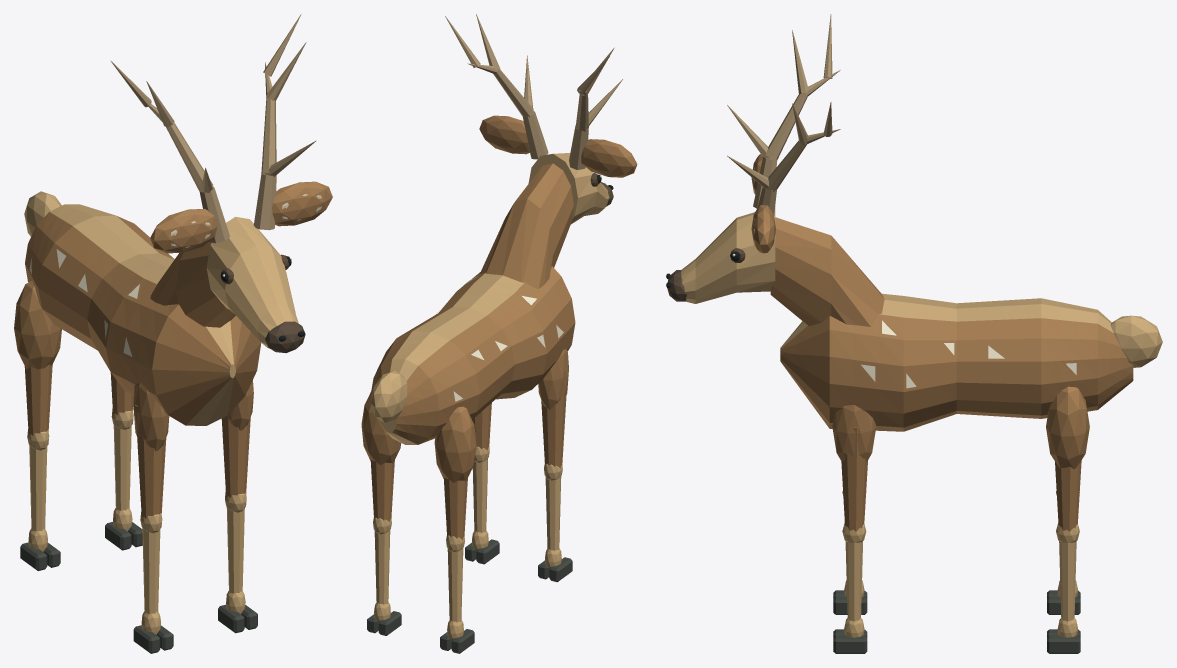
File: deer.glb
The picture shows the model from 3 angles, left to right: view 1: azimuth 30°, elevation 25°; view 2: azimuth 150°, elevation 25°; view 3: azimuth 270°, elevation 25°; orthographic projection. The views are drawn at different scales.
Visible parts, largest first — view 1: Body_mesh, Head_mesh, UpperLeg.002_mesh, UpperLeg_mesh, Antler.001_mesh, UpperLeg.001_mesh, Antler_mesh, Ear_mesh, Ear.001_mesh, LowerLeg.002_mesh, LowerLeg_mesh, LowerLeg.001_mesh (+7 smaller); view 2: Body_mesh, Head_mesh, UpperLeg.002_mesh, UpperLeg.003_mesh, UpperLeg_mesh, Antler.001_mesh, Ear_mesh, Antler_mesh, Tail_mesh, Ear.001_mesh, LowerLeg.002_mesh, LowerLeg_mesh (+7 smaller); view 3: Body_mesh, Head_mesh, UpperLeg.003_mesh, UpperLeg.001_mesh, Antler_mesh, Antler.001_mesh, Tail_mesh, LowerLeg.003_mesh, LowerLeg.001_mesh, Ear.001_mesh, Foot.001_mesh.
Boxes of the visible parts, box(x1,y1,x2,y2) form: Body_mesh: box(25, 204, 261, 425); Head_mesh: box(150, 216, 305, 353); UpperLeg.002_mesh: box(14, 281, 61, 450); UpperLeg_mesh: box(133, 382, 169, 533); Antler.001_mesh: box(253, 14, 316, 230); UpperLeg.001_mesh: box(221, 380, 253, 512); Antler_mesh: box(110, 60, 229, 243); Ear_mesh: box(150, 208, 217, 253); Ear.001_mesh: box(272, 181, 332, 226); LowerLeg.002_mesh: box(28, 445, 47, 551); LowerLeg_mesh: box(141, 528, 160, 634); LowerLeg.001_mesh: box(226, 507, 245, 614); Body_mesh: box(371, 266, 575, 444); Head_mesh: box(480, 153, 613, 288); UpperLeg.002_mesh: box(434, 406, 476, 552); UpperLeg.003_mesh: box(361, 391, 401, 534); UpperLeg_mesh: box(538, 349, 568, 480); Antler.001_mesh: box(445, 14, 548, 159); Ear_mesh: box(581, 139, 637, 177); Antler_mesh: box(569, 47, 622, 169); Tail_mesh: box(370, 370, 407, 422); Ear.001_mesh: box(479, 115, 529, 154); LowerLeg.002_mesh: box(447, 548, 463, 641); LowerLeg_mesh: box(545, 476, 561, 569); Body_mesh: box(780, 293, 1133, 431); Head_mesh: box(666, 207, 884, 326); UpperLeg.003_mesh: box(1046, 386, 1089, 542); UpperLeg.001_mesh: box(832, 405, 876, 542); Antler_mesh: box(727, 14, 840, 208); Antler.001_mesh: box(727, 102, 840, 215); Tail_mesh: box(1110, 315, 1162, 367); LowerLeg.003_mesh: box(1057, 541, 1078, 637); LowerLeg.001_mesh: box(844, 541, 864, 637); Ear.001_mesh: box(751, 205, 775, 253); Foot.001_mesh: box(833, 629, 867, 653).
Size of the model in its own units: 0.8615 by 2.61 by 2.05.
